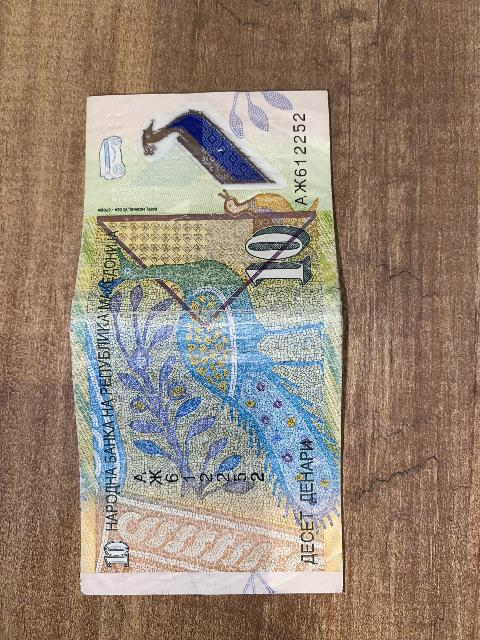10_note: (73, 86, 341, 595)
